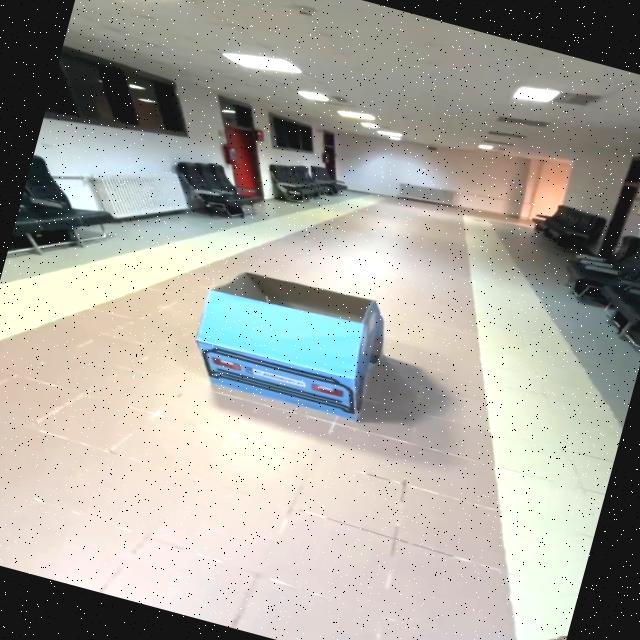blue_car: (141, 236, 432, 450)
